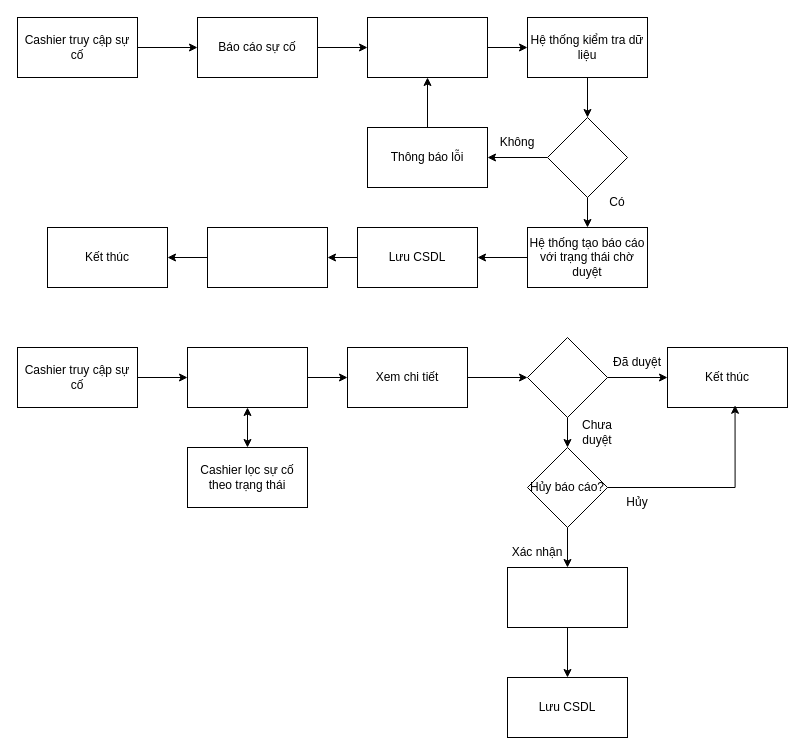
Some shapes in this 805 by 755 pixel diagram are drawn without their labels. Here are the shapes that lost their labels. From the top down, the centre of each, then its label:
(x=427, y=47): Nhập thông tin, đính kèm hình ảnh và video (tùy chọn)
(x=587, y=157): Hợp lệ?
(x=267, y=257): Thông báo thành công
(x=247, y=377): Danh sách sự cố
(x=567, y=377): Sự cố đẫ duyệt?
(x=567, y=597): Xác nhận hủy
